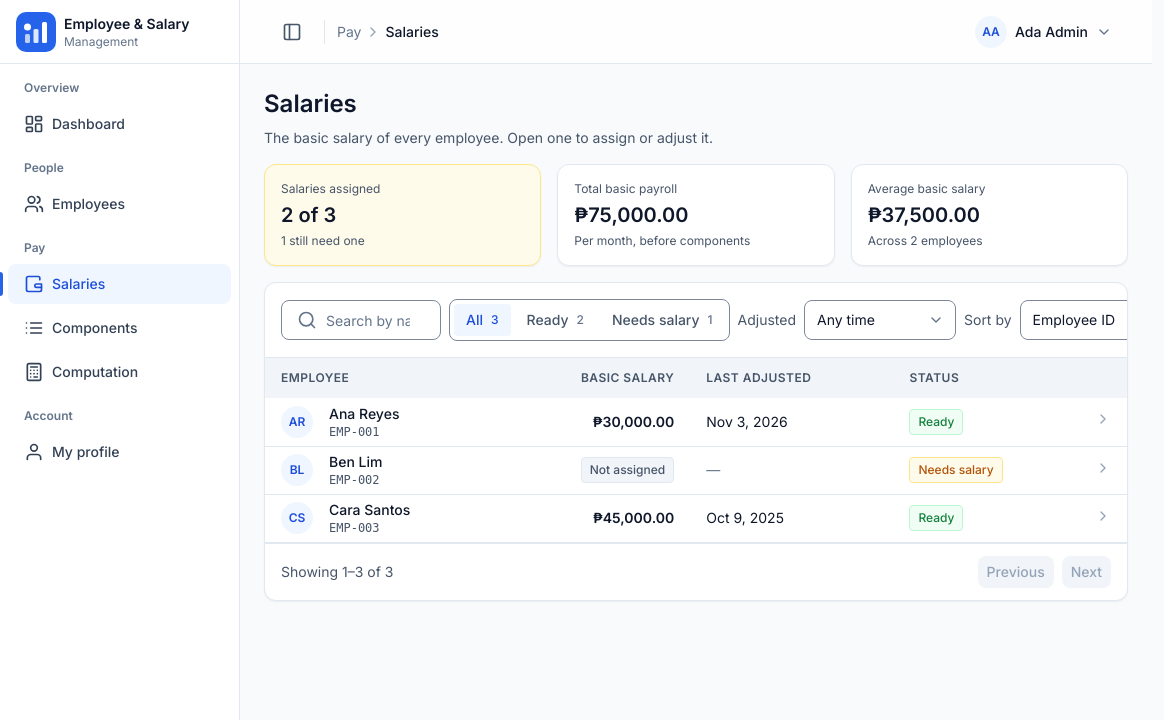
Test: Salaries page › filters › combines the search with the filters, and clears them all
This screenshot has width=1164, height=720.
Expected: the table named "Salaries" is shown, [265, 358, 1127, 542]
Click the button "Ready 2": (555, 320) [514, 304, 596, 336]
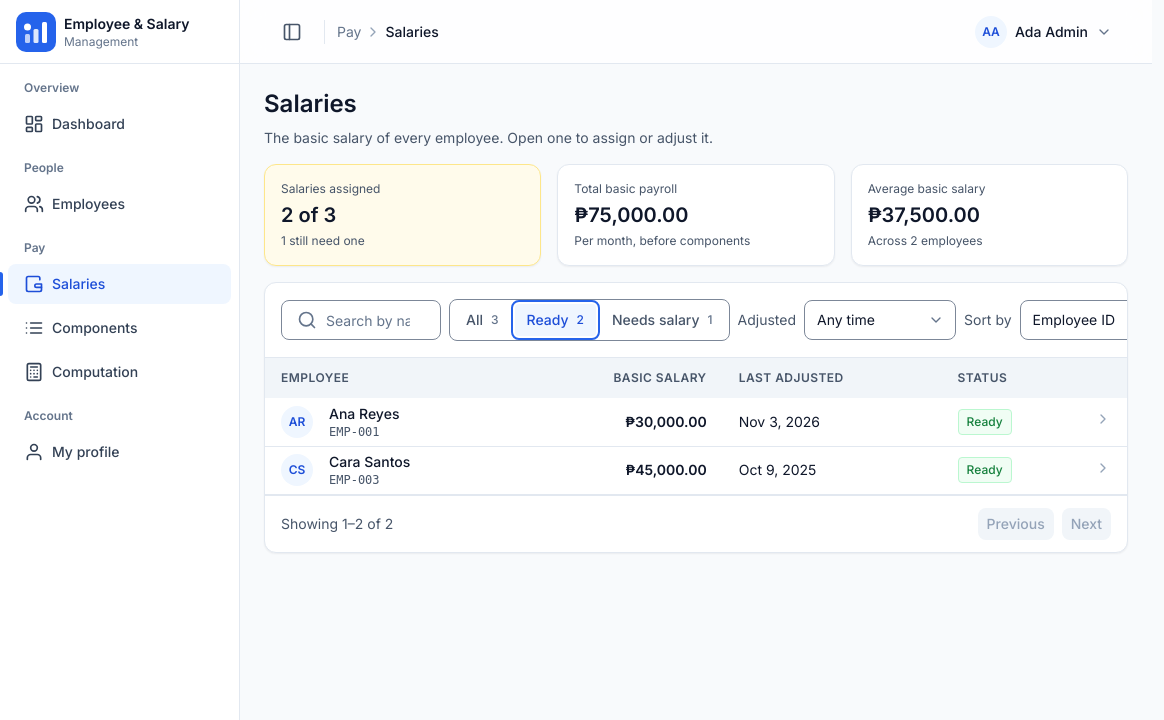
In the search field named "Search salaries": (361, 320) [281, 300, 441, 340], type "cara"
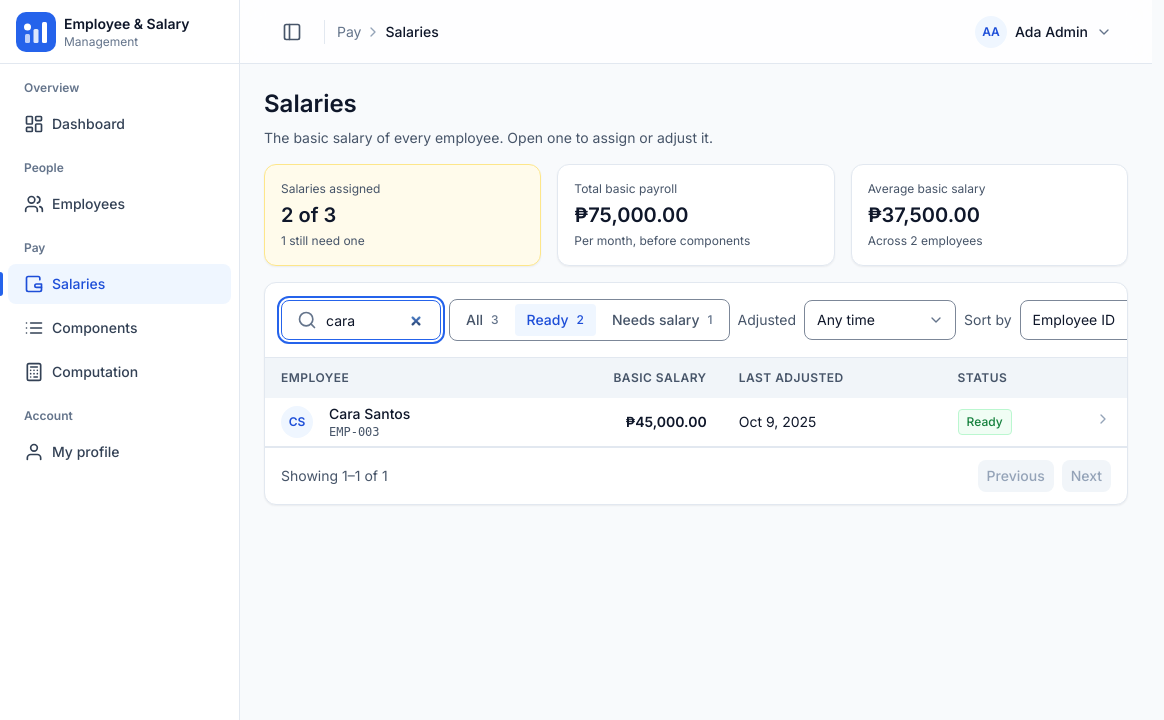
In the search field: (361, 320) [281, 300, 441, 340], type "zzz"
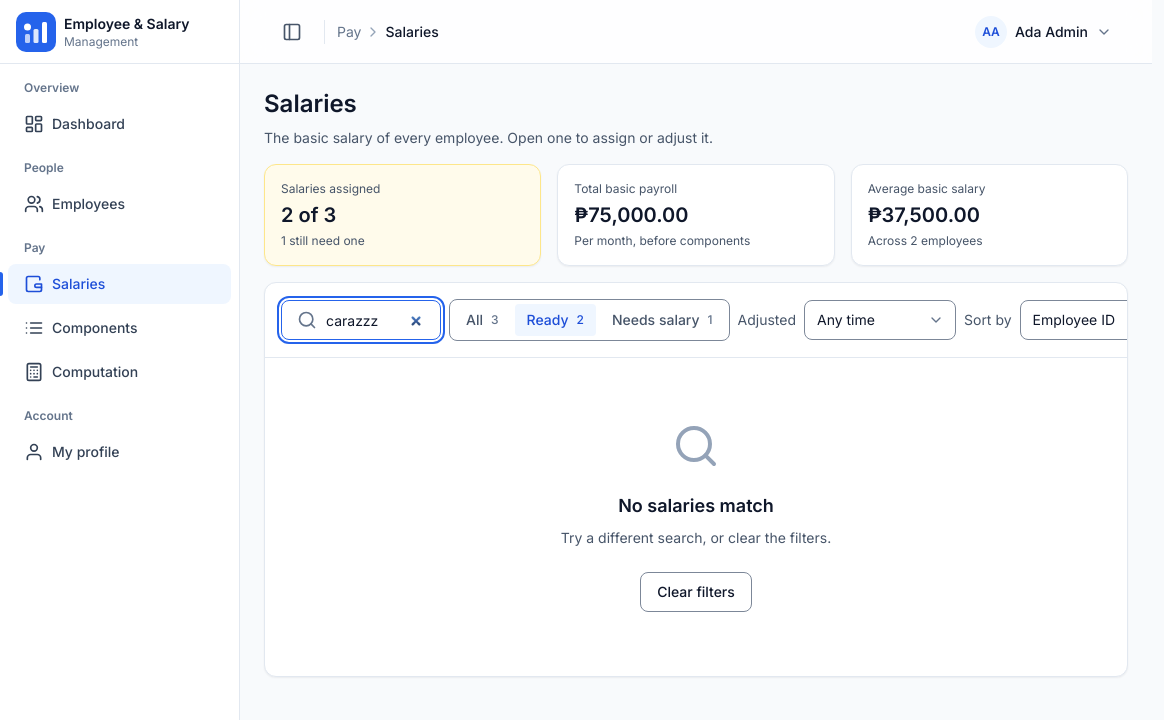
Expected: the heading "No salaries match" is shown, [618, 492, 774, 520]
Click the button "Clear filters": (696, 592) [640, 572, 752, 612]
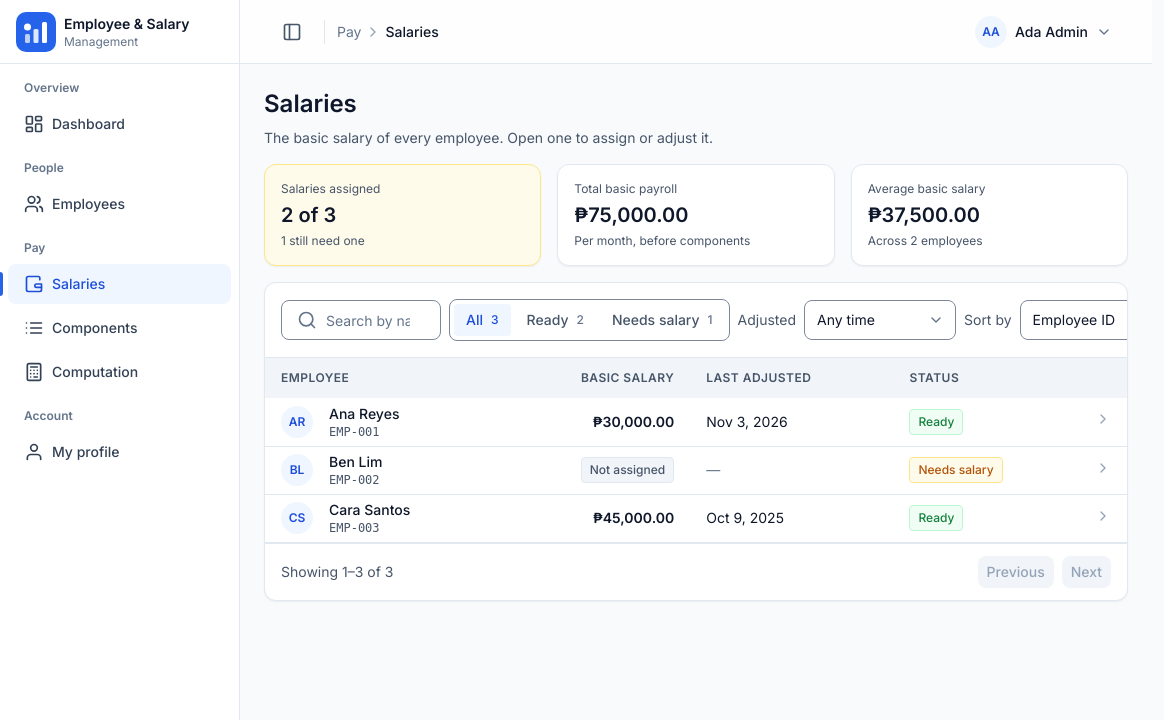
Expected: the table named "Salaries" is shown, [265, 358, 1127, 542]
Expected: the search field is empty, [281, 300, 441, 340]
